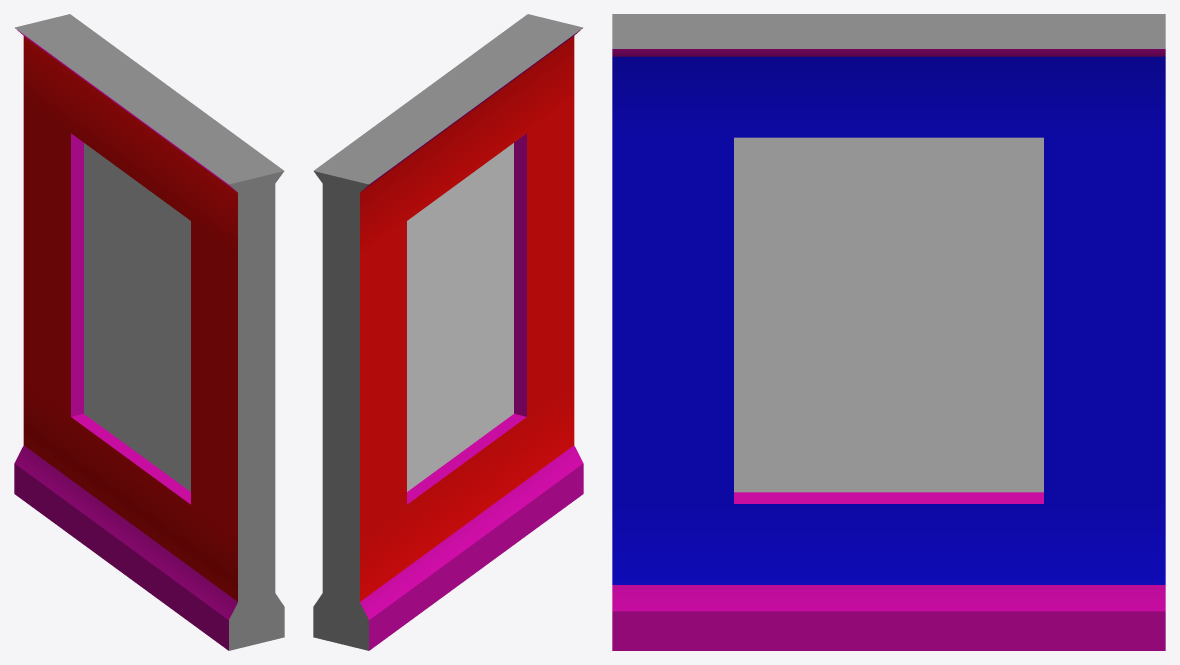
File: ModularWindow.FBX
The picture shows the model from 3 angles, left to right: view 1: azimuth 30°, elevation 25°; view 2: azimuth 150°, elevation 25°; view 3: azimuth 270°, elevation 25°; orthographic projection. The views are drawn at different scales.
Visible parts, largest first — view 1: ModularWindow, Glass; view 2: ModularWindow, Glass; view 3: ModularWindow, Glass.
Part boxes in pixels (box(x1,y1,x2,y2)): ModularWindow: box(14, 14, 284, 650); Glass: box(84, 143, 190, 491); ModularWindow: box(313, 14, 583, 650); Glass: box(407, 143, 513, 491); ModularWindow: box(612, 14, 1165, 650); Glass: box(734, 137, 1043, 492).
Size of the model in its own units: 15 by 120 by 100.
